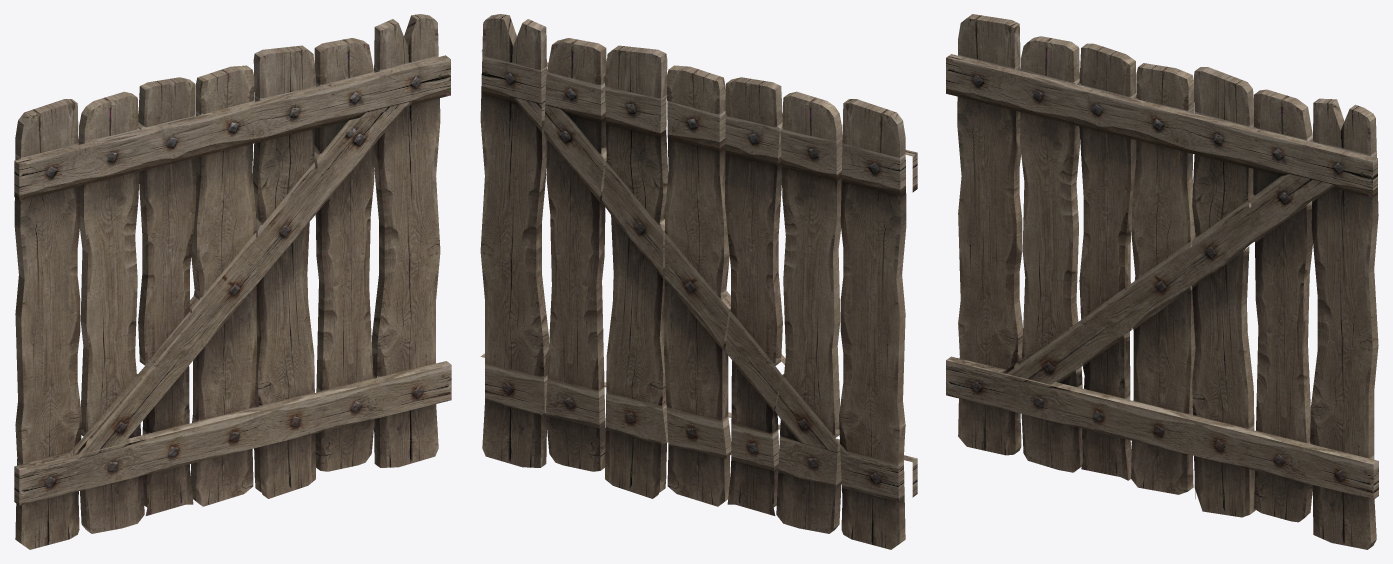
File: wall_plank_lod0.glb
3 views of the same model, side by side, from view 1: azimuth 30°, elevation 25°; view 2: azimuth 150°, elevation 25°; view 3: azimuth 330°, elevation 25° (orthographic).
Parts seen in each view (by area): view 1: wall_plank_LOD0; view 2: wall_plank_LOD0; view 3: wall_plank_LOD0.
Part boxes in pixels (<box>): wall_plank_LOD0: <box>14,14,451,549</box>; wall_plank_LOD0: <box>480,14,917,549</box>; wall_plank_LOD0: <box>946,14,1378,549</box>.
Size of the model in its own units: 1.94 by 1.91 by 0.085.
1 material, 1 textured.
